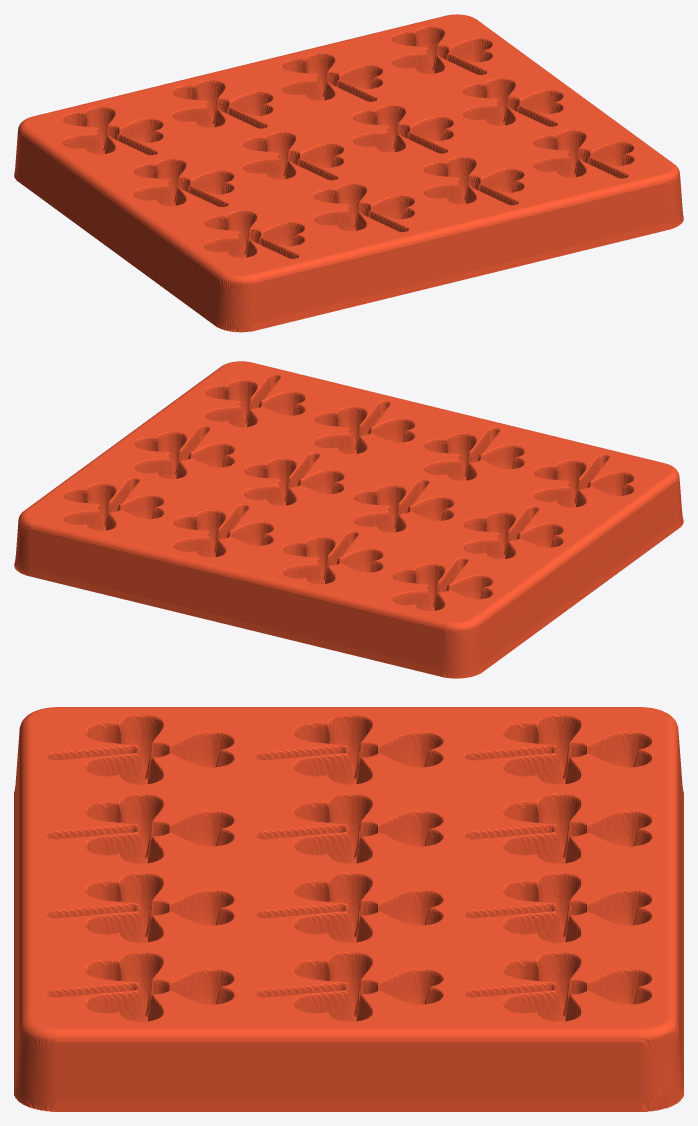
The model's file is mold.glb.
3 renders of one model, top to bottom at view 1: azimuth 30°, elevation 25°; view 2: azimuth 150°, elevation 25°; view 3: azimuth 270°, elevation 25°, orthographic. The views are drawn at different scales.
Parts seen in each view (by area): view 1: geometry_0; view 2: geometry_0; view 3: geometry_0.
Part boxes in pixels (x1,y1,x2,y2): geometry_0: [14, 14, 683, 332]; geometry_0: [14, 361, 683, 678]; geometry_0: [14, 707, 683, 1111].
Bounding box in the file's own units: 0.1642 × 0.0175 × 0.1389.
